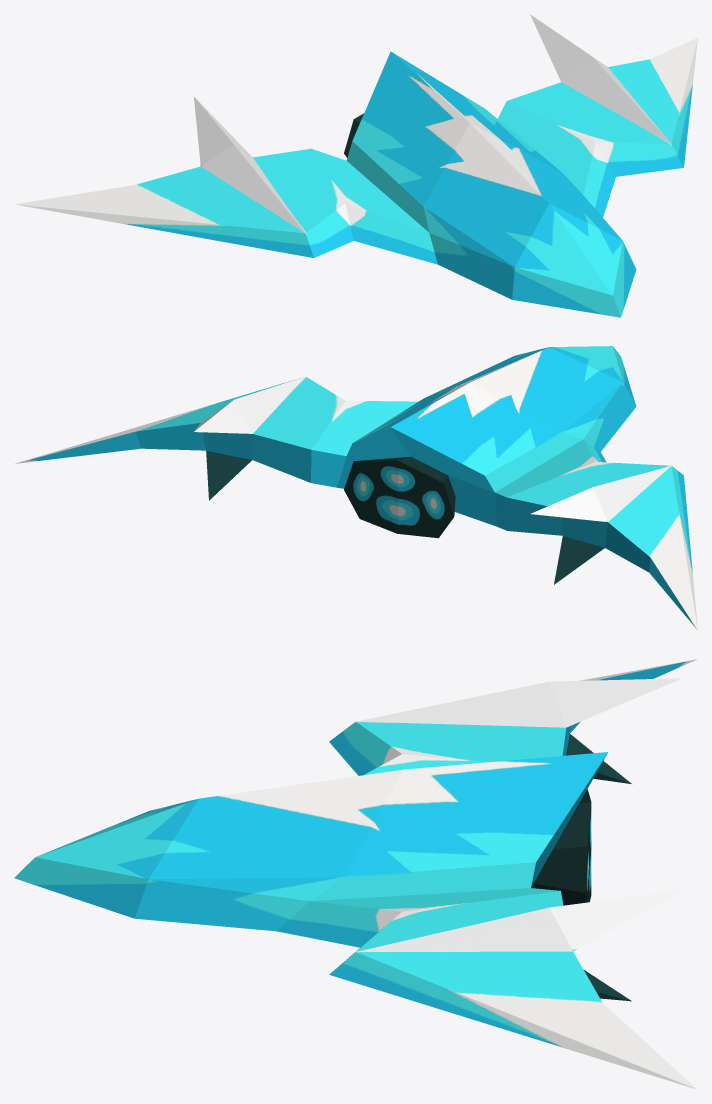
File: spark2.obj
The picture shows the model from 3 angles, top to bottom: view 1: azimuth 30°, elevation 25°; view 2: azimuth 150°, elevation 25°; view 3: azimuth 270°, elevation 25°; orthographic projection. The views are drawn at different scales.
Visible parts, largest first — view 1: Plane; view 2: Plane; view 3: Plane.
Part boxes in pixels (<box>): Plane: <box>15,14,697,317</box>; Plane: <box>15,346,697,630</box>; Plane: <box>14,659,697,1089</box>.
Size of the model in its own units: 2.17 by 0.3383 by 1.46.
Materials: 1 (1 with a texture image).
